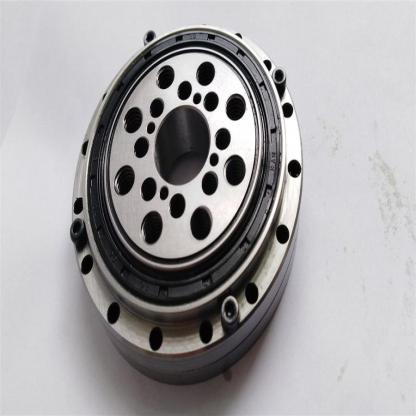FOD: (69, 20, 304, 387)
